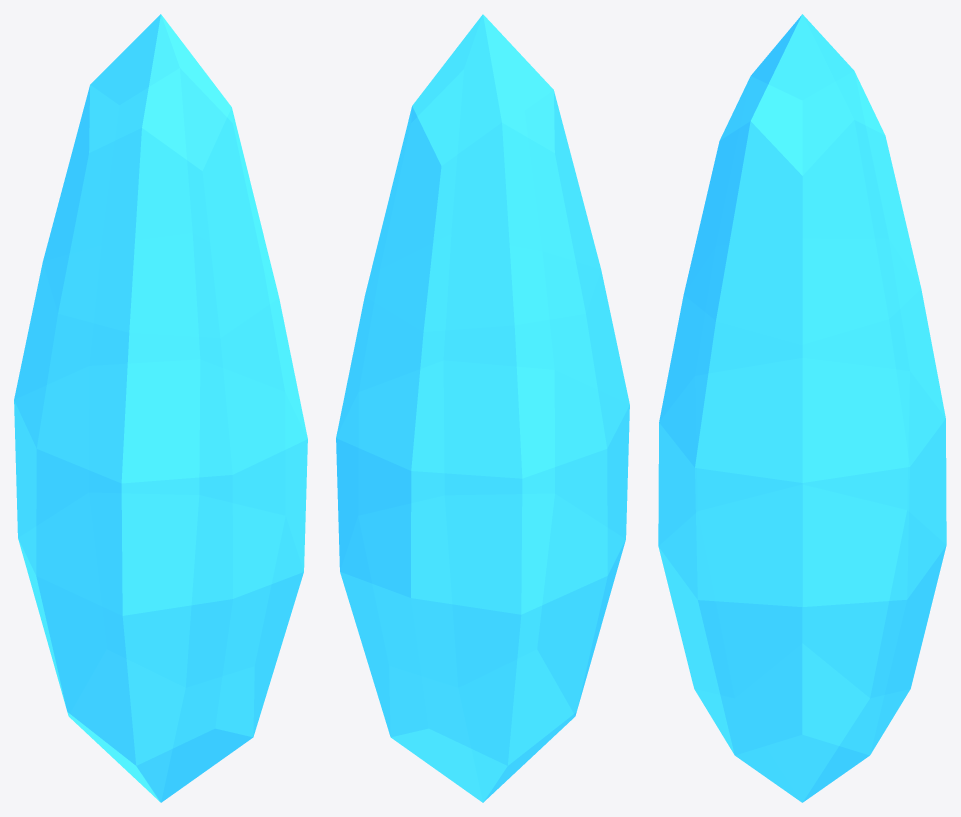
File: LightCrystal001.FBX
3 renders of one model, left to right at view 1: azimuth 30°, elevation 25°; view 2: azimuth 150°, elevation 25°; view 3: azimuth 270°, elevation 25°, orthographic.
Visible parts, largest first — view 1: Light Crystal; view 2: Light Crystal; view 3: Light Crystal.
Part boxes in pixels (x1=…): Light Crystal: x1=14, y1=14, x2=307, y2=802; Light Crystal: x1=336, y1=14, x2=629, y2=802; Light Crystal: x1=658, y1=14, x2=946, y2=802.
Bounding box in the file's own units: 0.6498 × 1.96 × 0.6498.
